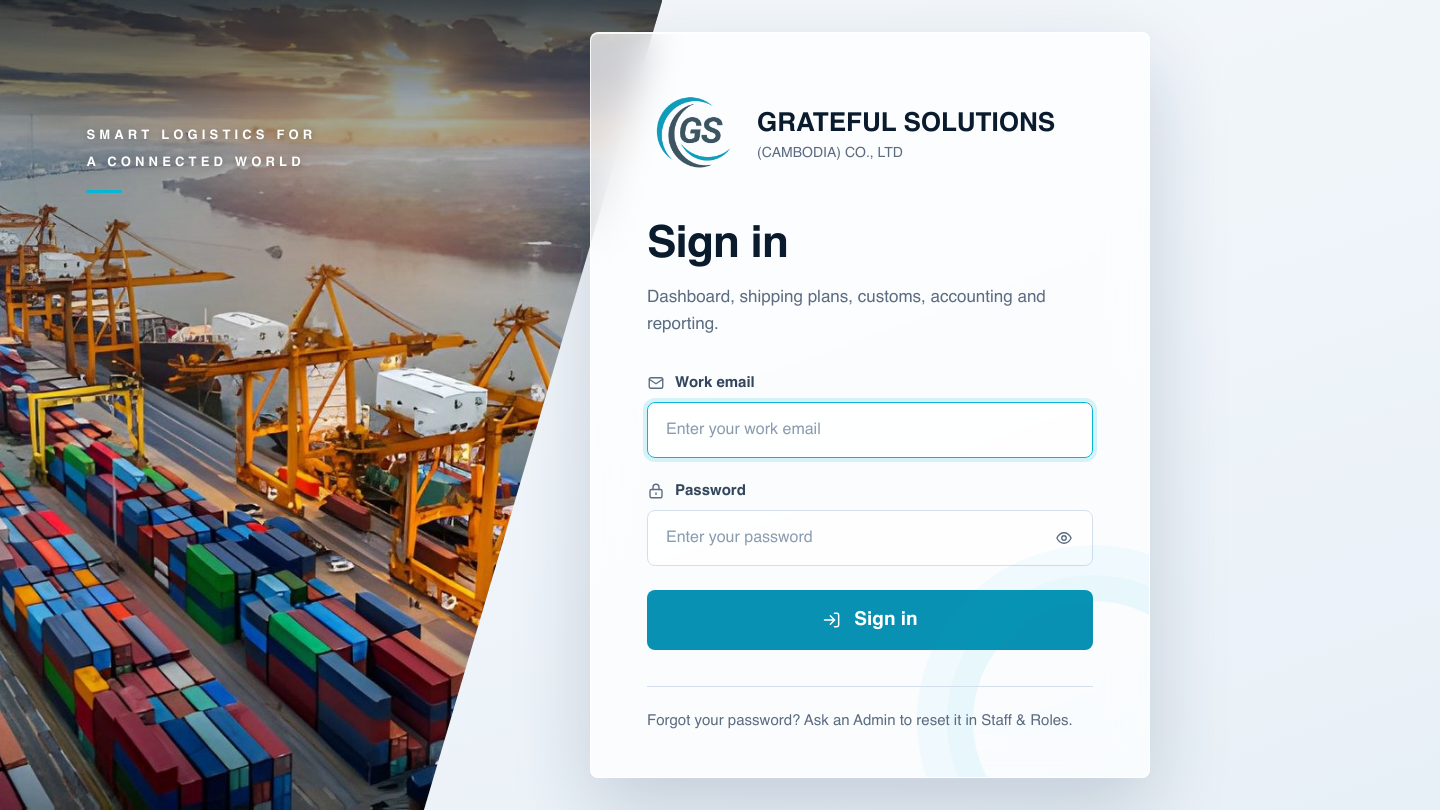
Scenario: LoginPage › shows the server message on a wrong password
In the field labelled "Work email": x=870, y=430 [647, 402, 1093, 458], type "aden.whitfield@gs.local"
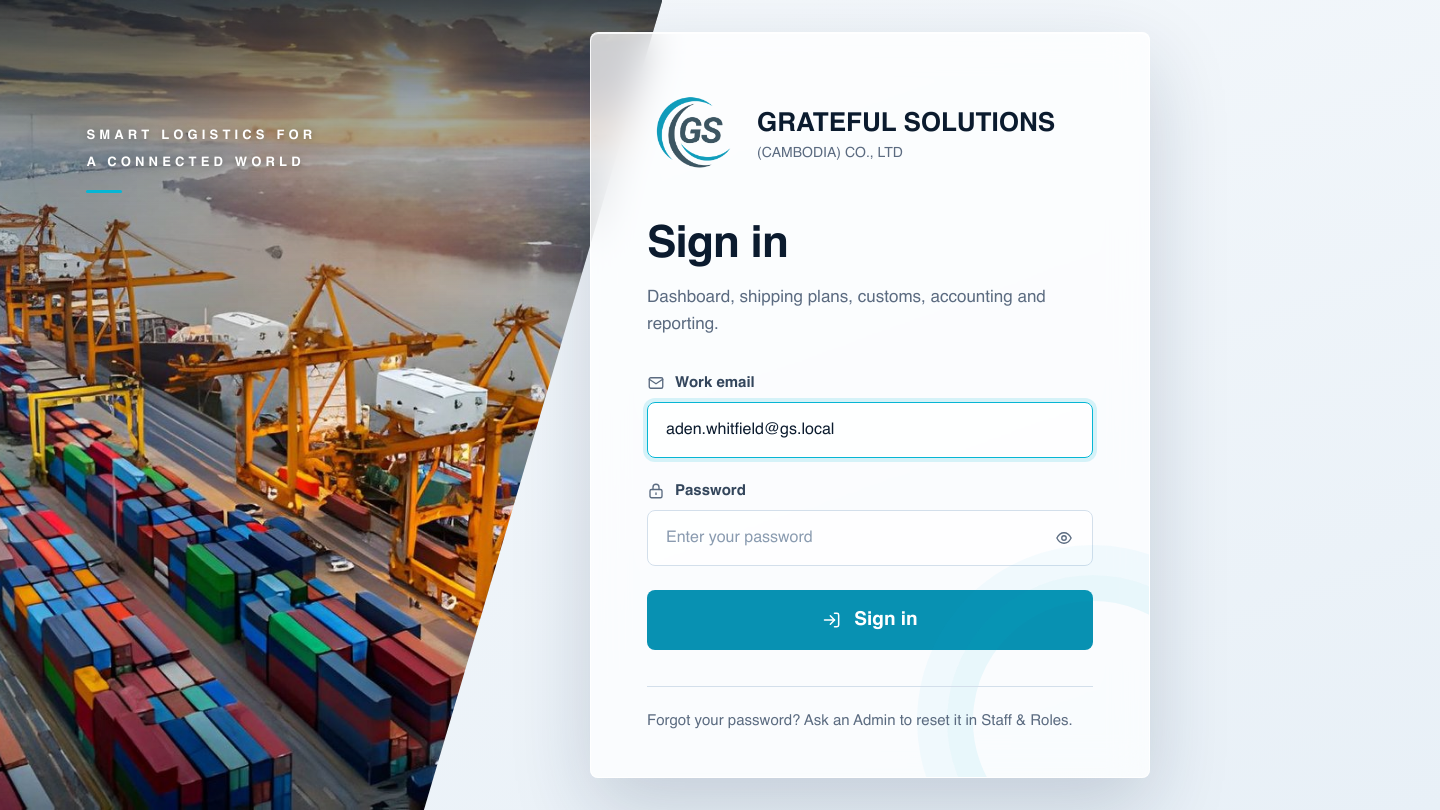
In the password field labelled "Password": x=870, y=538 [647, 510, 1093, 566], type "nope"
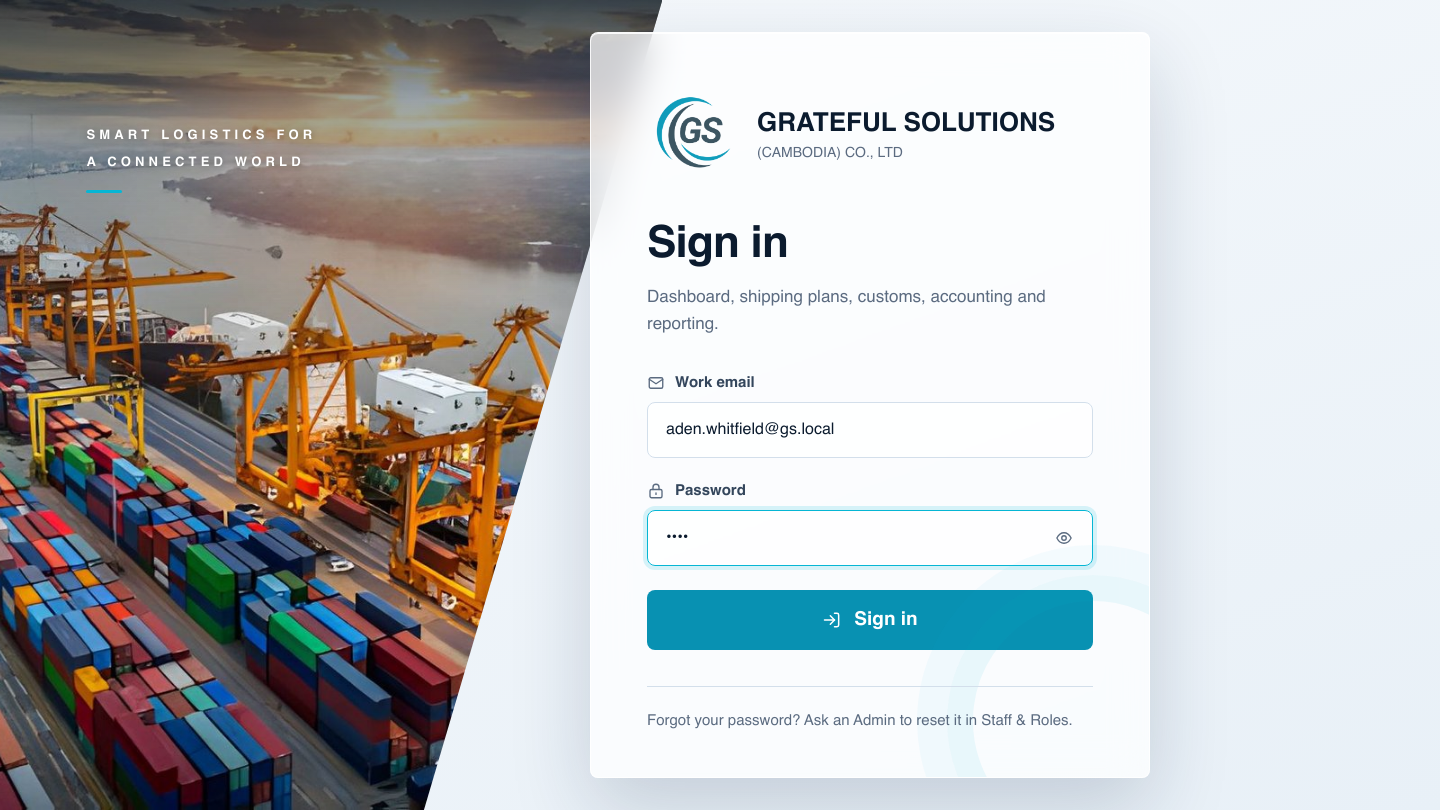
Click the button "Sign in": x=870, y=620 [647, 590, 1093, 650]
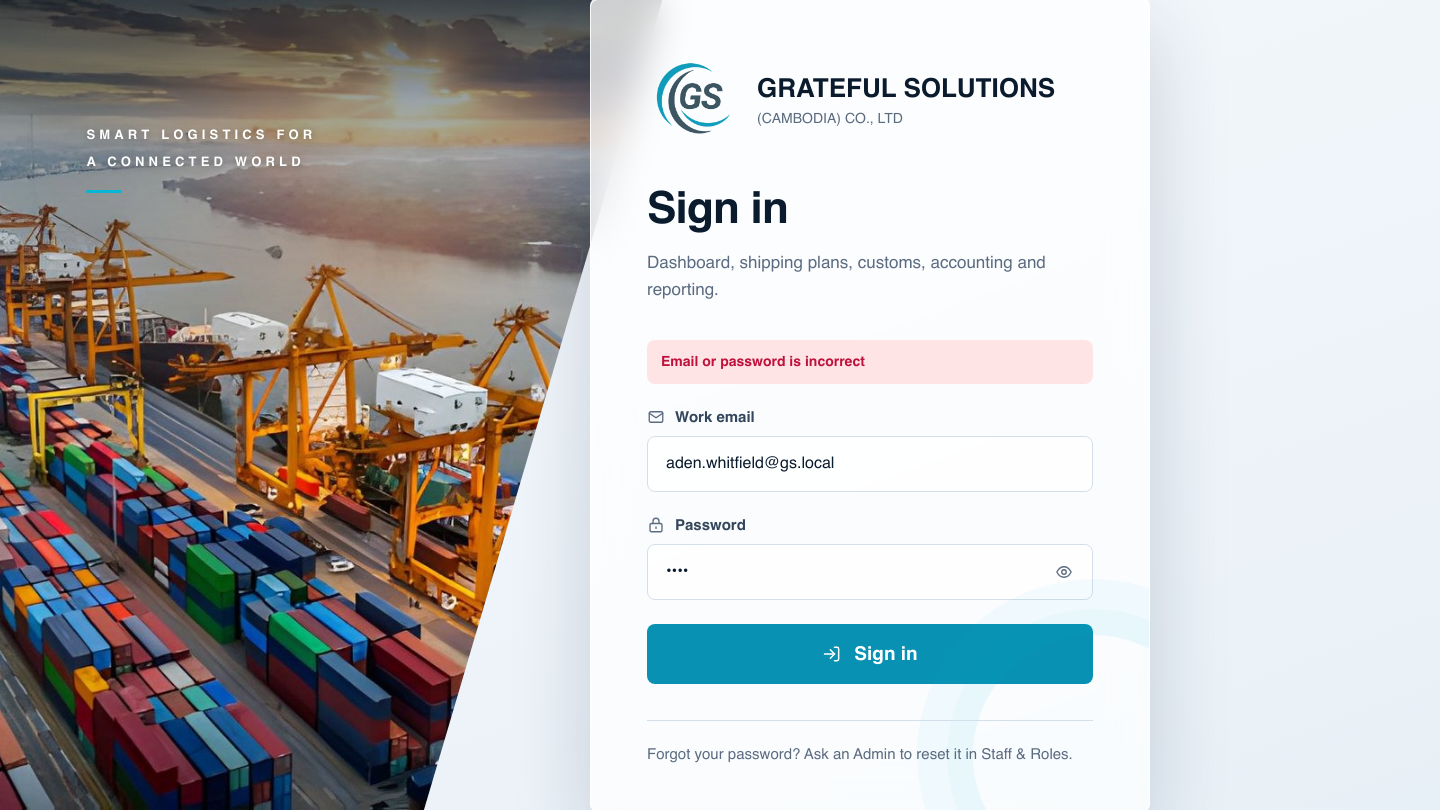
Expected: the message reads "Email or password is incorrect", [661, 355, 865, 369]
